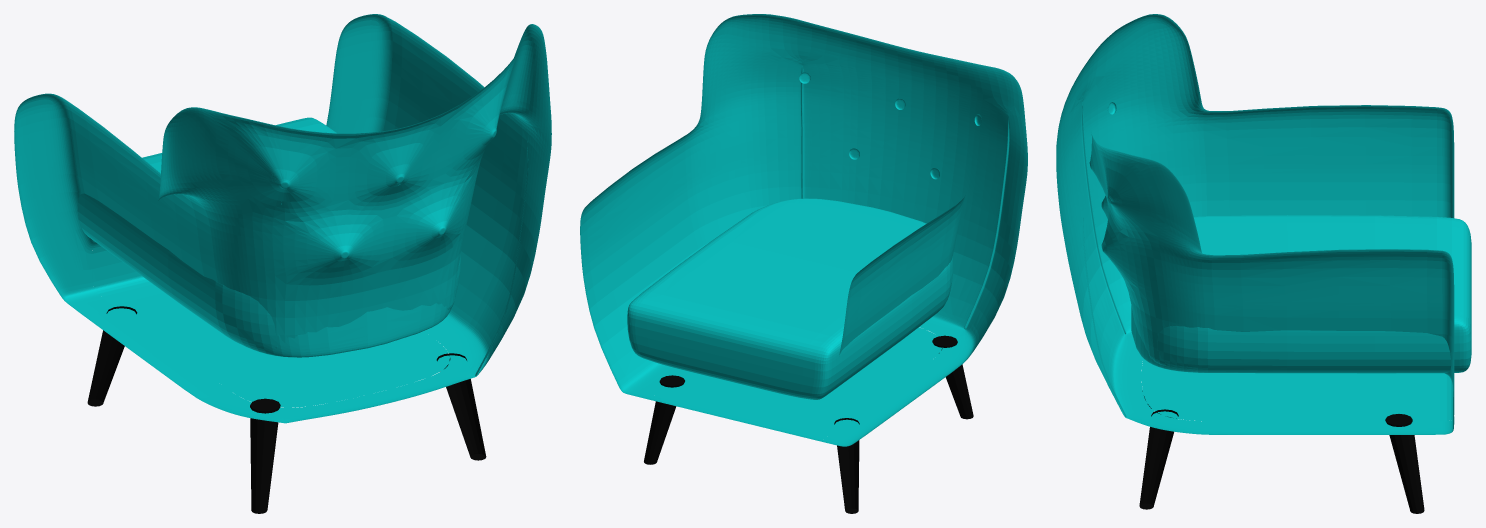
File: ruben_blender.gltf
The picture shows the model from 3 angles, left to right: view 1: azimuth 30°, elevation 25°; view 2: azimuth 150°, elevation 25°; view 3: azimuth 270°, elevation 25°; orthographic projection. The views are drawn at different scales.
Parts seen in each view (by area): view 1: 3DGeom_1, 3DGeom_2; view 2: 3DGeom_1, 3DGeom_2; view 3: 3DGeom_1, 3DGeom_2.
Part boxes in pixels (x1,y1,x2,y2): 3DGeom_1: (14,14,551,423); 3DGeom_2: (87,306,486,513); 3DGeom_1: (580,14,1027,446); 3DGeom_2: (644,335,973,513); 3DGeom_1: (1056,14,1471,434); 3DGeom_2: (1139,391,1424,513).
Bounding box in the file's own units: 0.0209 × 0.0217 × 0.022.
